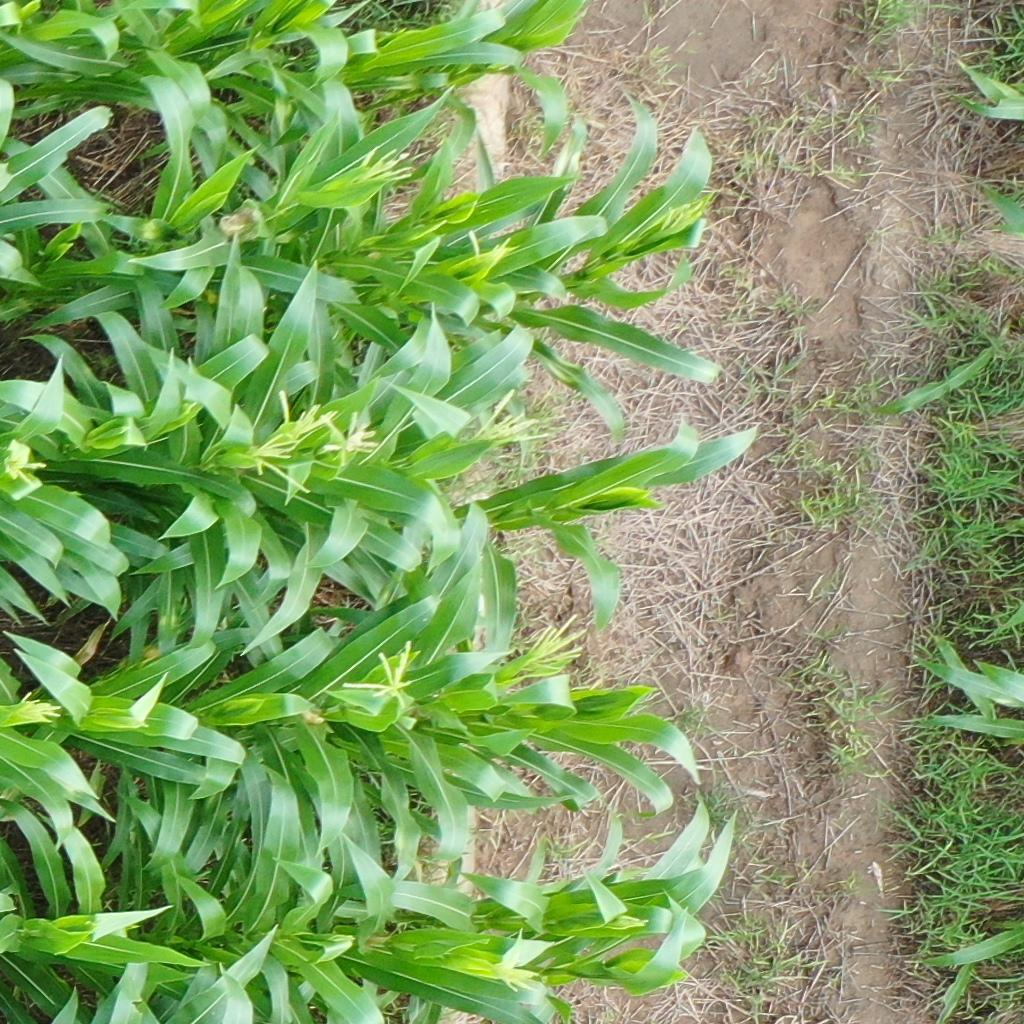Tassel: (252, 388, 381, 492), (342, 641, 412, 708), (474, 386, 549, 446), (531, 611, 583, 681), (462, 227, 522, 272), (355, 146, 415, 187), (1, 438, 48, 484), (12, 688, 66, 726), (499, 956, 542, 993), (657, 198, 706, 230), (609, 908, 649, 931), (173, 398, 200, 423), (117, 714, 149, 730)
